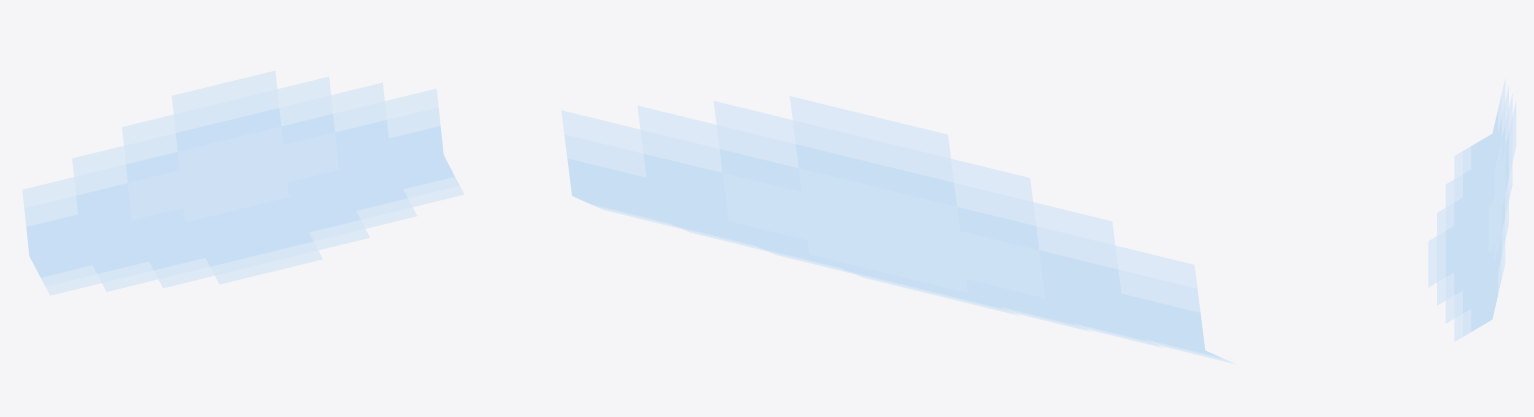
3 renders of one model, left to right at view 1: azimuth 30°, elevation 25°; view 2: azimuth 150°, elevation 25°; view 3: azimuth 270°, elevation 25°, orthographic. The views are drawn at different scales.
Bounding box in the file's own units: 1 × 0.5088 × 0.3838.
Materials: 1 (1 with a texture image).
